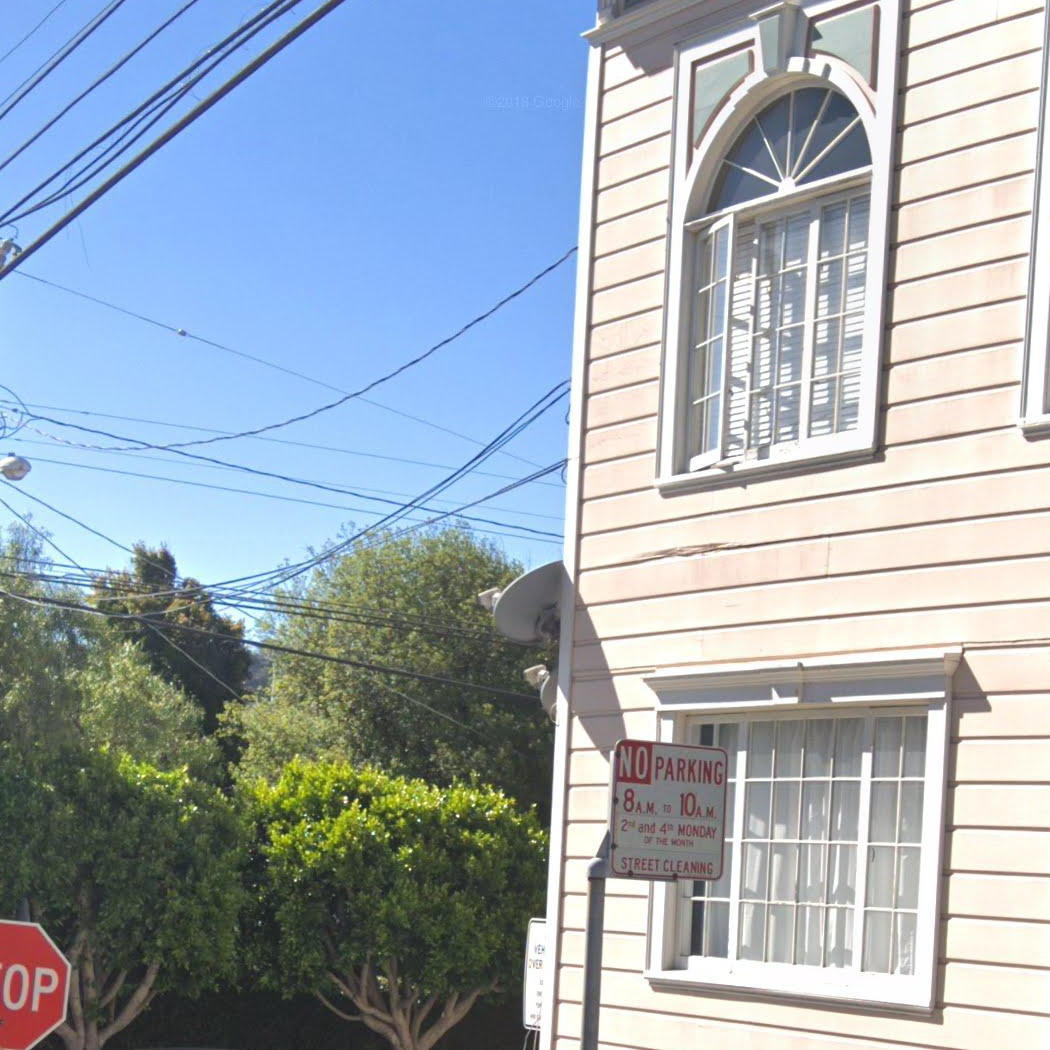No Parking: (610, 739, 728, 880)
